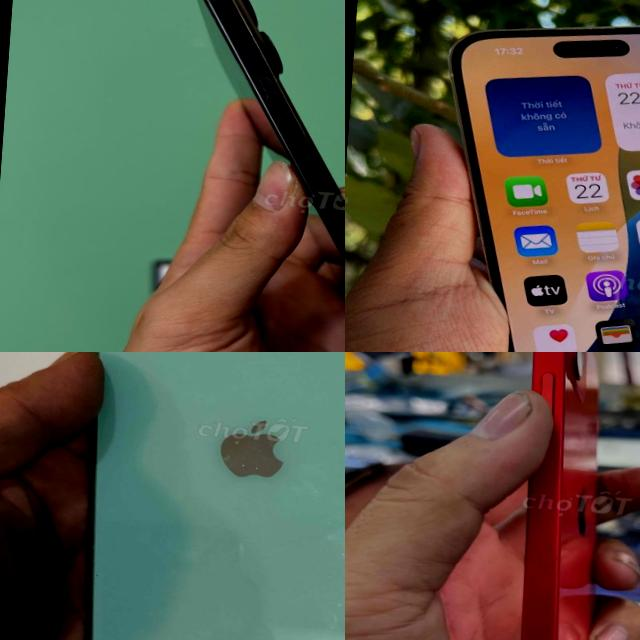gen_11: (85, 352, 345, 640)
gen_12_13: (484, 352, 640, 640)
gen_14: (404, 0, 640, 352)
gen_16: (197, 0, 345, 264)
scratch: (207, 425, 284, 490), (206, 528, 268, 570)
